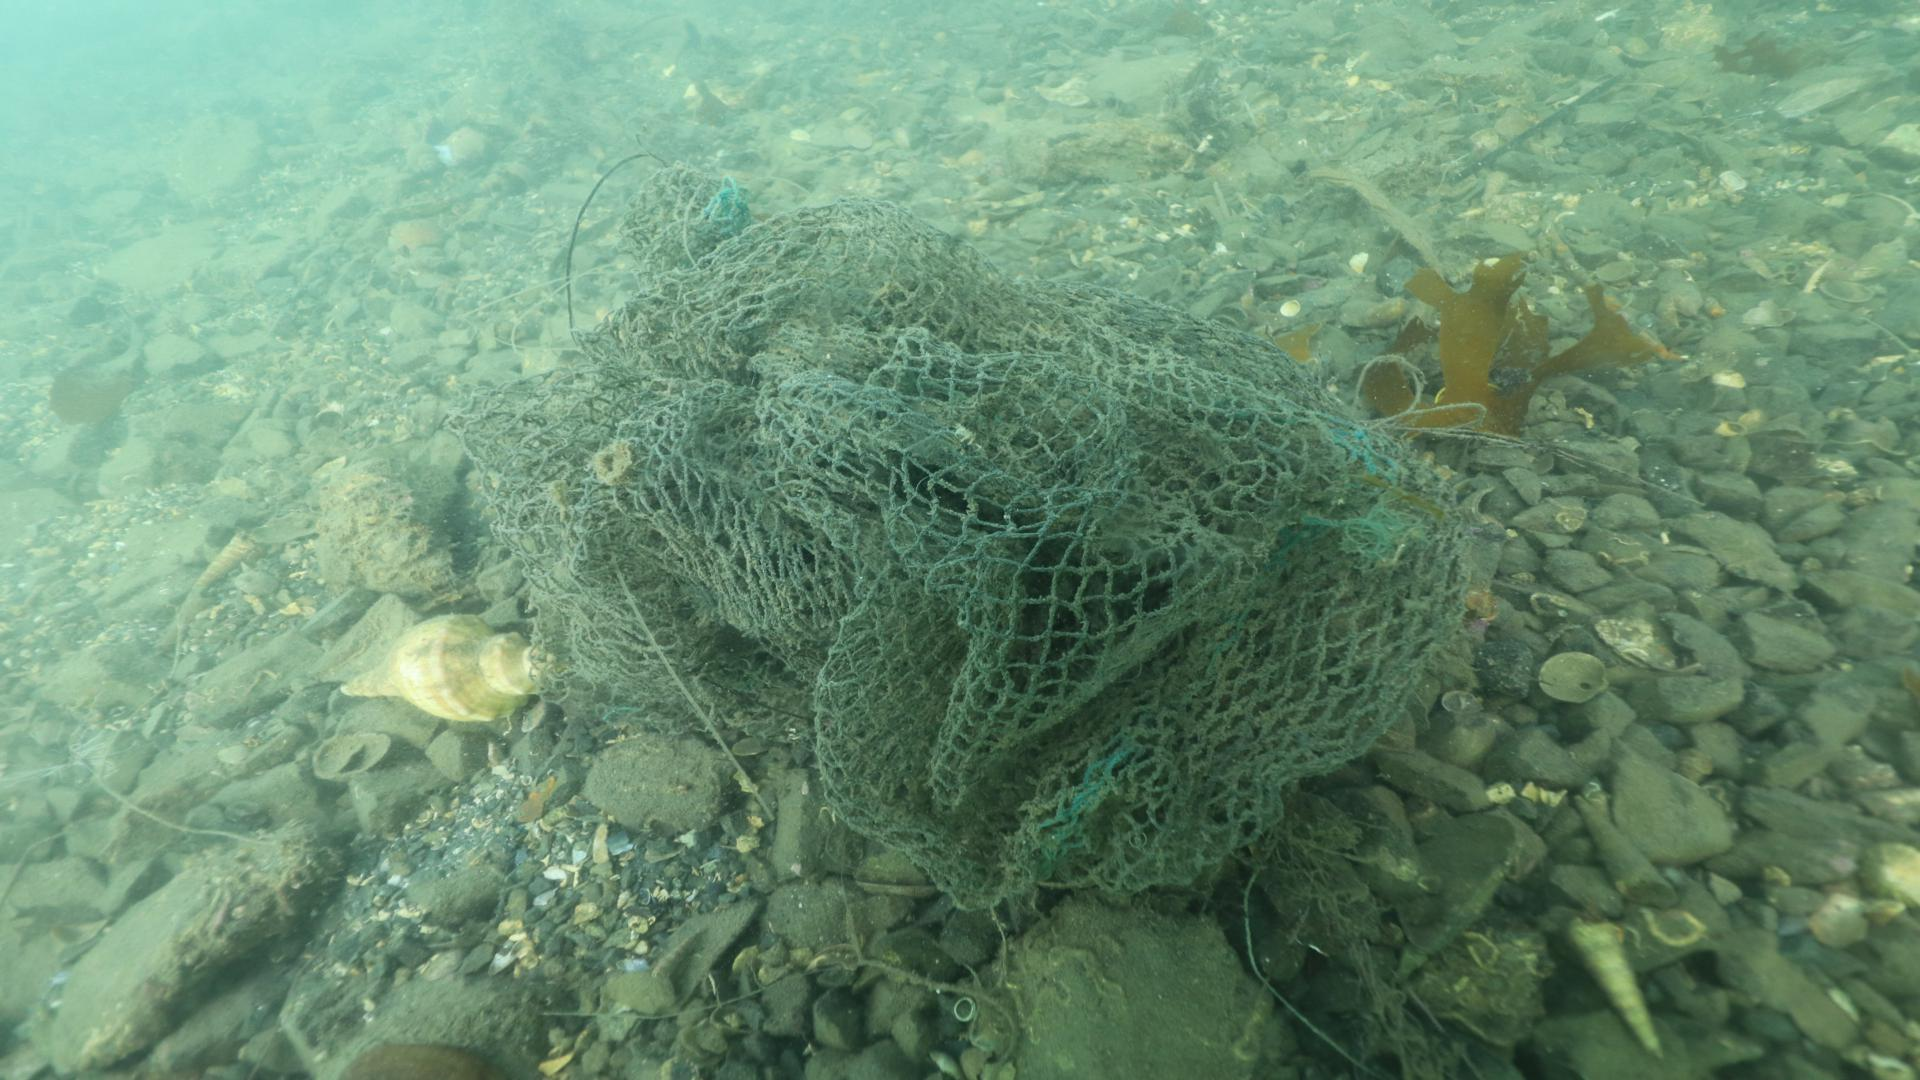fish net: (448, 166, 1476, 910)
